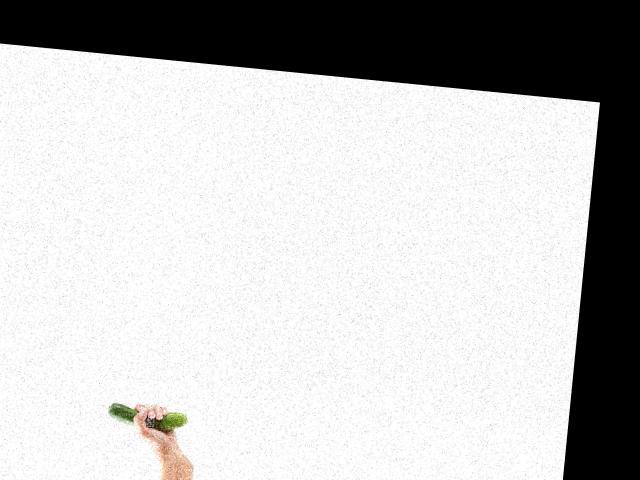cucumber: (107, 401, 188, 432)
